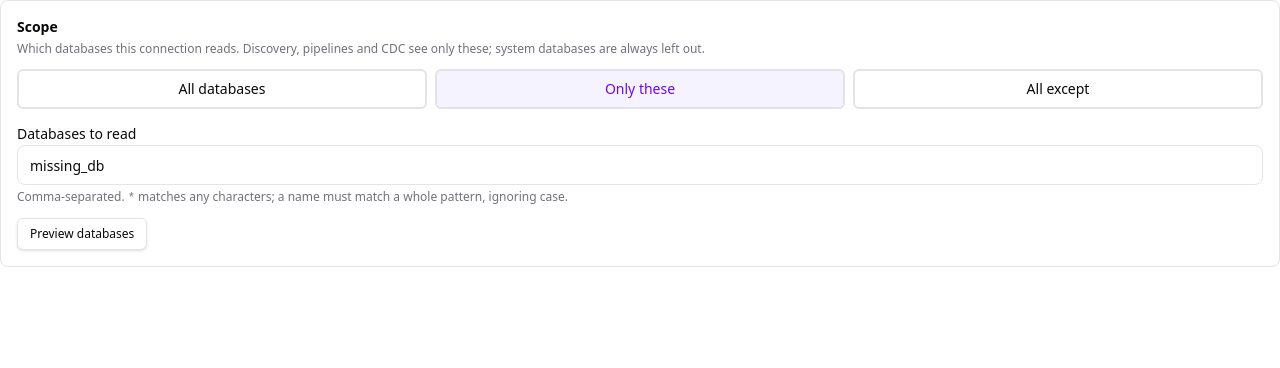
ConnectionScopeSection › warns, without failing, when the patterns match nothing
Click the button "Preview databases". click: (82, 234)
box: top-left (17, 218), bottom-right (147, 250)
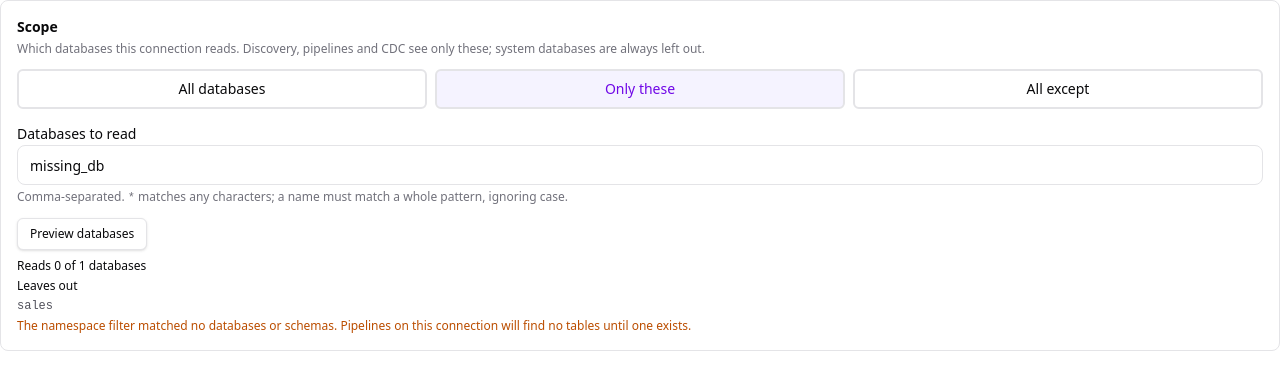
expect the text with test id "connection-scope-warning" shows "The namespace filter matched no databases or schemas.": met, box top-left (17, 317), bottom-right (337, 334)
